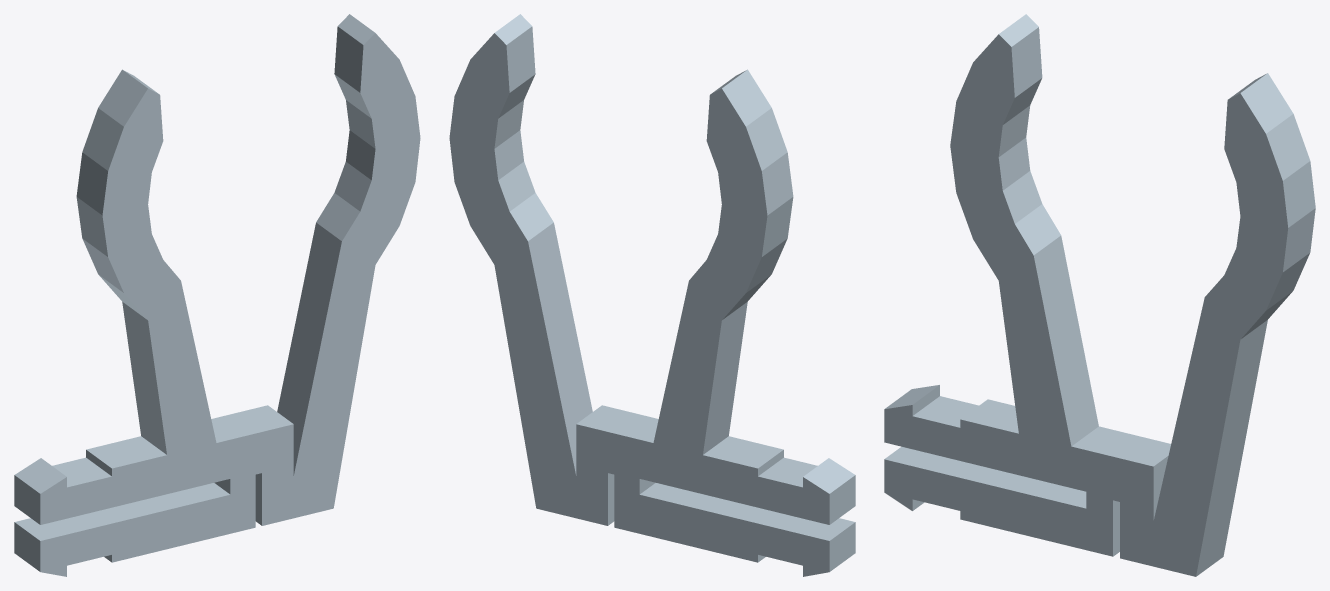
Rendered from prt0009.obj.
3 views of the same model, side by side, from view 1: azimuth 30°, elevation 25°; view 2: azimuth 150°, elevation 25°; view 3: azimuth 330°, elevation 25° (orthographic). The views are drawn at different scales.
Visible parts, largest first — view 1: 1; view 2: 1; view 3: 1.
Part boxes in pixels (x1,y1,x2,y2): 1: (14,14,420,576); 1: (449,14,855,576); 1: (884,14,1315,576).
Bounding box in the file's own units: 25.4 × 29.93 × 3.
